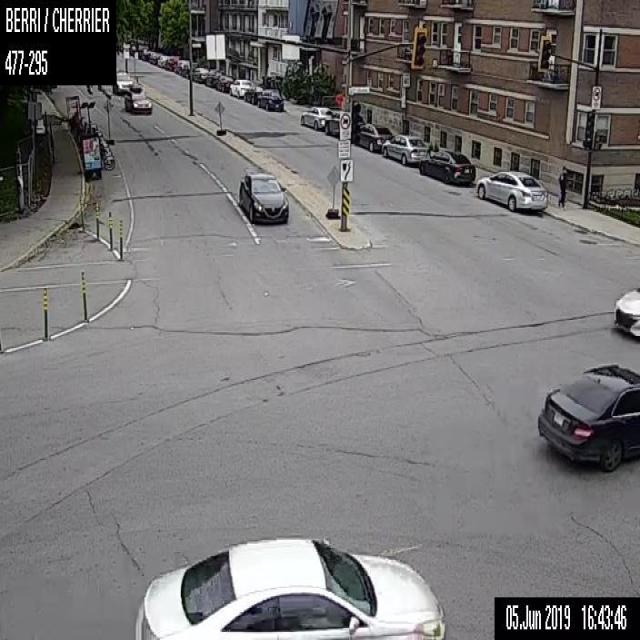construction: (326, 165, 339, 218), (102, 97, 114, 144), (212, 101, 225, 135), (79, 268, 87, 321), (43, 287, 47, 337), (79, 190, 84, 230), (118, 217, 122, 260), (108, 212, 112, 249), (95, 202, 98, 238)
pedestrian: (557, 164, 567, 210)
vehicle: (132, 533, 445, 639), (536, 359, 639, 473), (476, 170, 547, 210), (238, 171, 288, 224), (419, 149, 475, 184), (611, 284, 639, 339), (381, 133, 428, 163), (324, 111, 365, 139), (358, 123, 392, 152), (300, 106, 333, 130), (124, 87, 152, 114), (257, 89, 283, 110), (112, 72, 132, 94), (228, 78, 250, 96), (244, 85, 263, 104), (204, 68, 222, 86), (214, 75, 234, 91), (174, 60, 188, 78), (191, 67, 208, 81), (164, 57, 176, 70), (157, 55, 167, 66)
